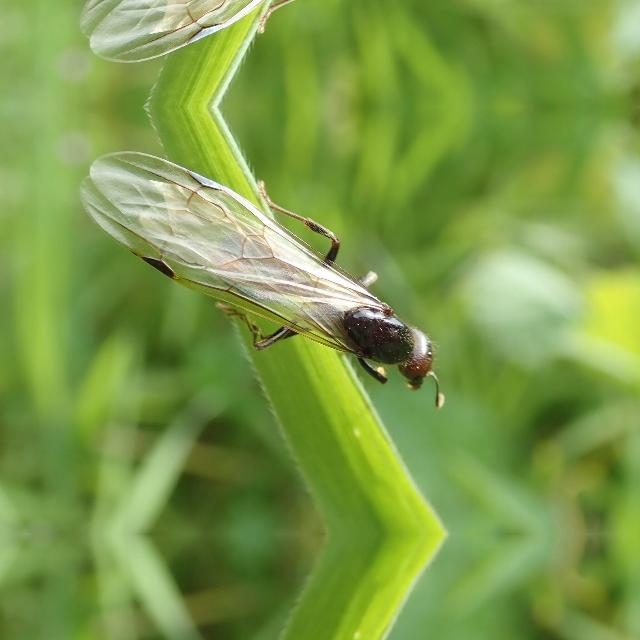Messor: (84, 130, 460, 422), (84, 0, 460, 82)
